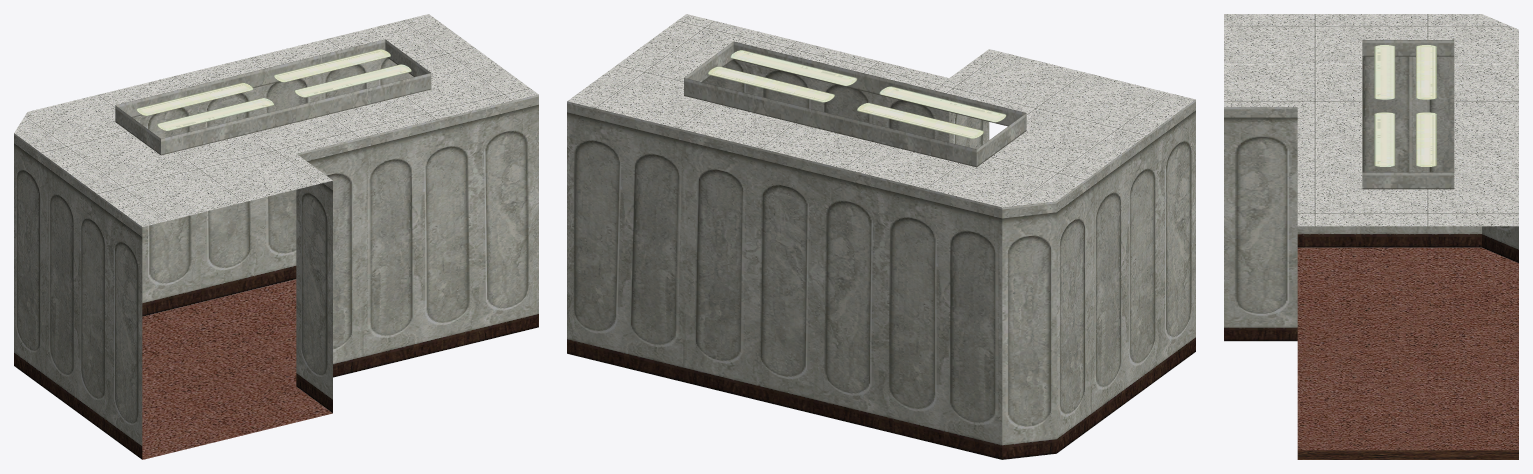
The model's file is mun_corl_guild_university_s01_r3_hallb_mesh_hallb.fbx.
3 renders of one model, left to right at view 1: azimuth 30°, elevation 25°; view 2: azimuth 150°, elevation 25°; view 3: azimuth 270°, elevation 25°, orthographic. The views are drawn at different scales.
Parts seen in each view (by area): view 1: mesh_node; view 2: mesh_node; view 3: mesh_node.
Part boxes in pixels (bbox=[...]): mesh_node: bbox=[14, 14, 538, 459]; mesh_node: bbox=[567, 14, 1195, 459]; mesh_node: bbox=[1224, 14, 1518, 459].
Size of the model in its own units: 6.82 by 3.75 by 4.
